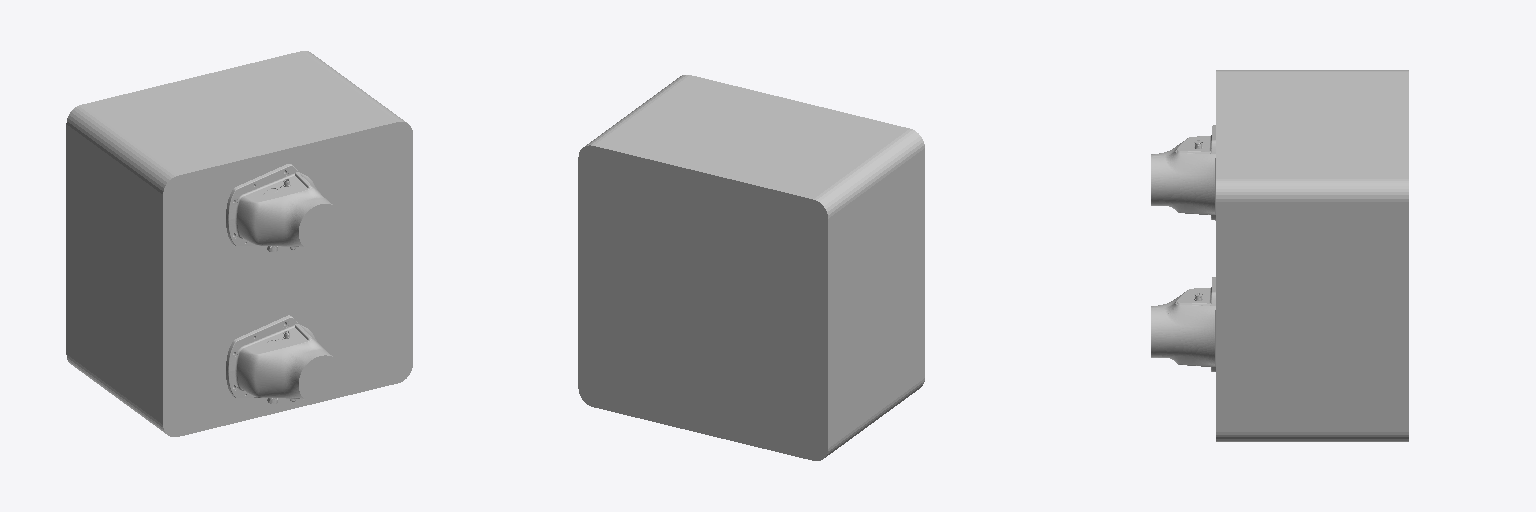
The model's file is mmp_panda_two_arm_base.obj.
The picture shows the model from 3 angles: view 1: azimuth 30°, elevation 25°; view 2: azimuth 150°, elevation 25°; view 3: azimuth 270°, elevation 25°; orthographic projection.
Visible parts, largest first — view 1: Cube, node3_Part__Feature019.001_Part__Feature019_001.001, node3_Part__Feature019.001_Part__Feature019_001; view 2: Cube; view 3: Cube, node3_Part__Feature019.001_Part__Feature019_001.001, node3_Part__Feature019.001_Part__Feature019_001.
Boxes of the visible parts, x1,y1,x2,y2 form: Cube: [66, 51, 412, 436]; node3_Part__Feature019.001_Part__Feature019_001.001: [226, 315, 342, 402]; node3_Part__Feature019.001_Part__Feature019_001: [226, 164, 342, 250]; Cube: [578, 75, 924, 460]; Cube: [1216, 70, 1408, 441]; node3_Part__Feature019.001_Part__Feature019_001.001: [1151, 277, 1215, 371]; node3_Part__Feature019.001_Part__Feature019_001: [1151, 125, 1215, 220].
Bounding box in the file's own units: 0.62 × 0.62 × 0.556.